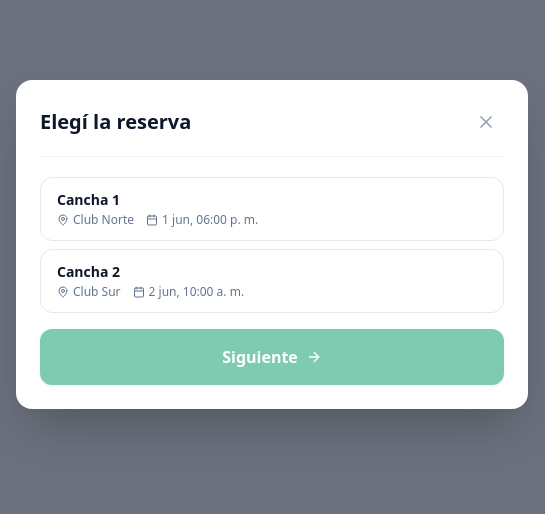
Test: ReportFromReservationModal › navigates to score step after selecting 4 unique players
The image size is (545, 514).
# select reservation
Click the text "Cancha 1" at (89, 199), box x1=57 y1=190 x2=120 y2=208
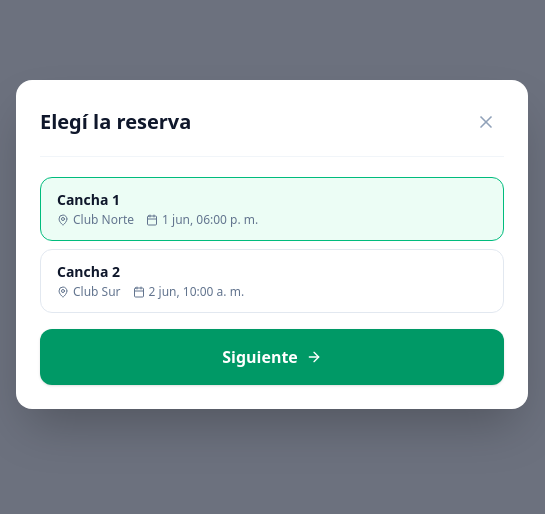
Click the button "Siguiente" at (272, 356), box x1=40 y1=328 x2=504 y2=384
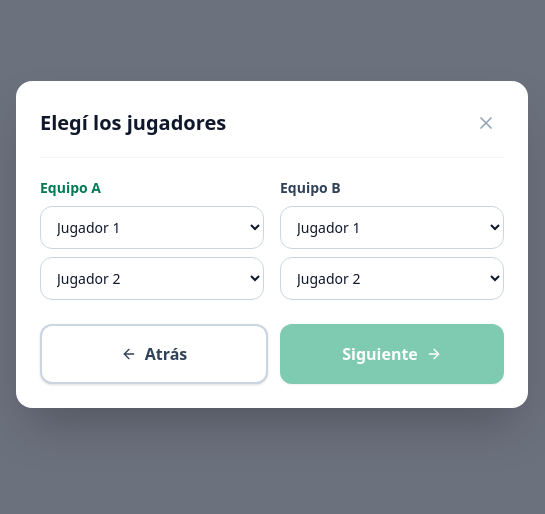
# select players
Select "Juan" in the 1st dropdown named "Jugador 1" at (152, 227), box x1=40 y1=206 x2=264 y2=248
Select "Carlos" in the 3rd dropdown named "Jugador 2" at (152, 278), box x1=40 y1=256 x2=264 y2=300
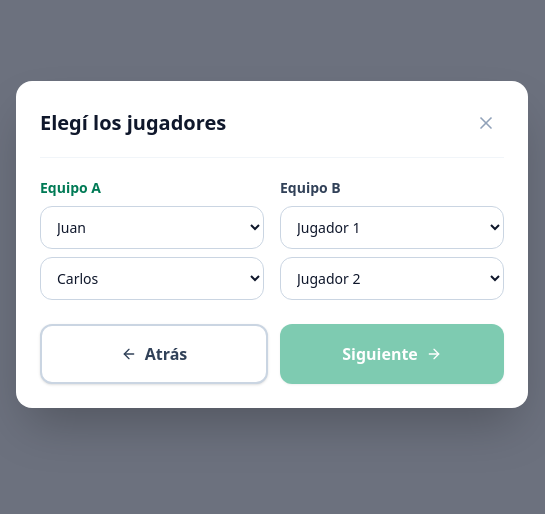
Select "María" in the 2nd dropdown named "Jugador 1" at (392, 227), box x1=280 y1=206 x2=504 y2=248
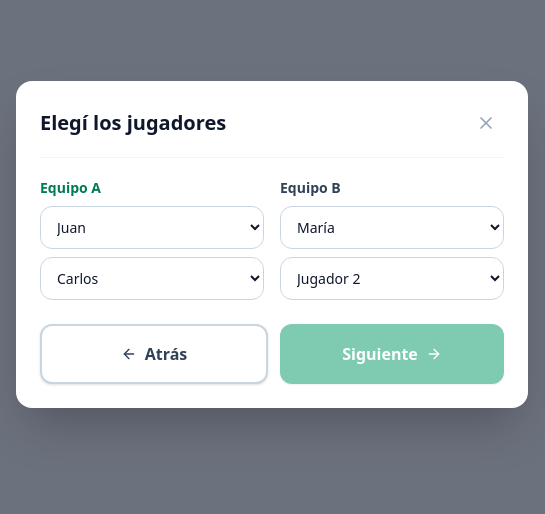
Select "Ana" in the 4th dropdown named "Jugador 2" at (392, 278), box x1=280 y1=256 x2=504 y2=300
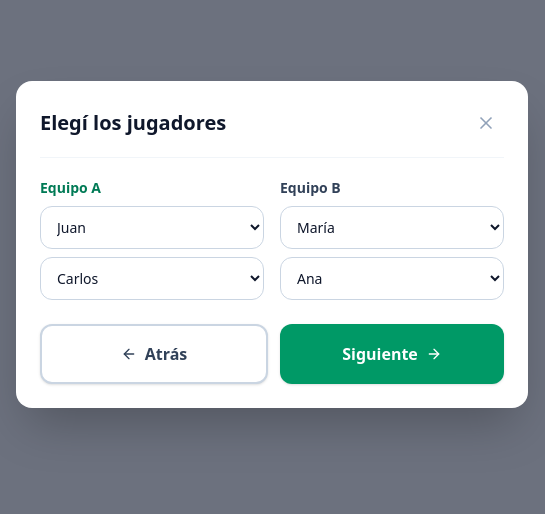
# Navigate to score step
Click the button "Siguiente" at (392, 354), box x1=280 y1=324 x2=504 y2=384
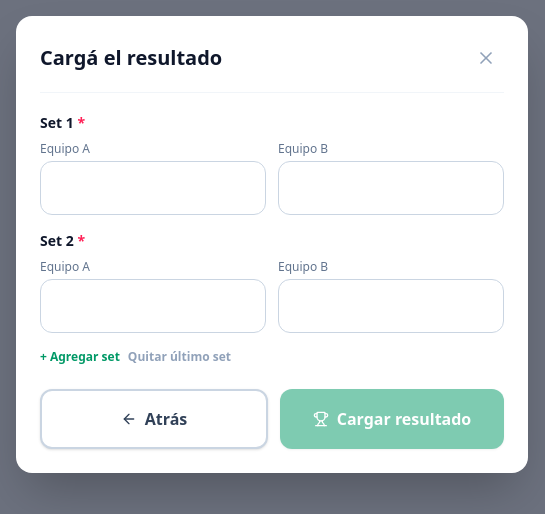
Now the heading "Cargá el resultado" is shown, box x1=40 y1=44 x2=222 y2=72
Now the text "Set 1" is shown, box x1=40 y1=112 x2=85 y2=132
Now the text "Set 2" is shown, box x1=40 y1=230 x2=85 y2=250
